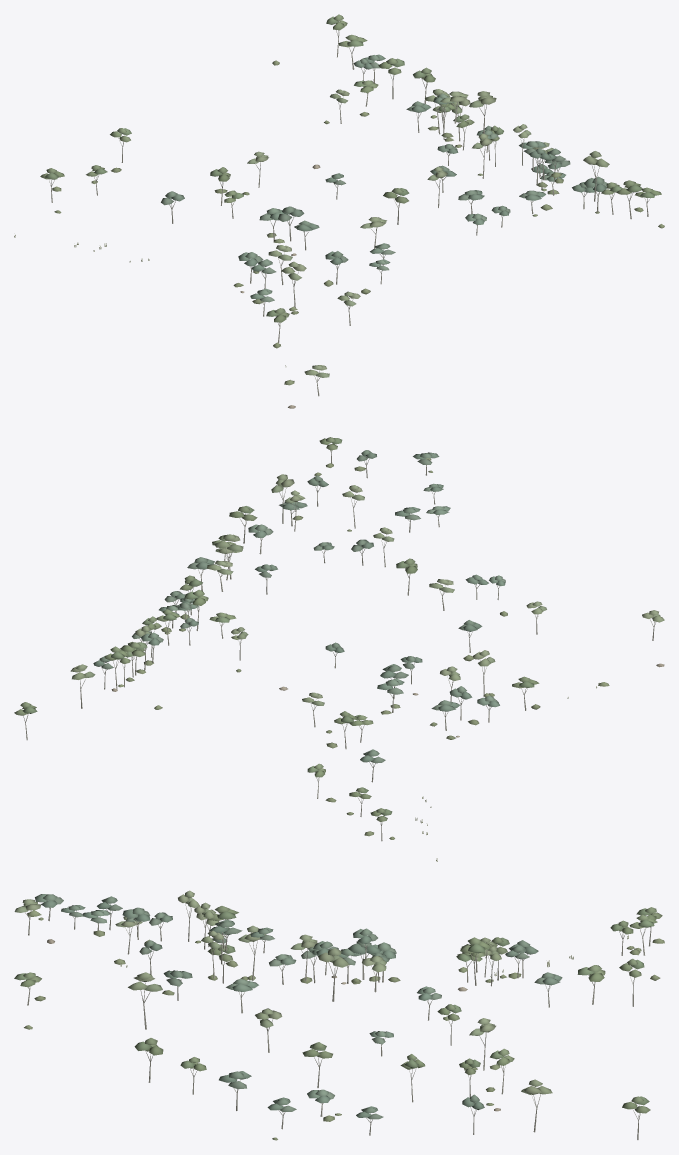
3 renders of one model, top to bottom at view 1: azimuth 30°, elevation 25°; view 2: azimuth 150°, elevation 25°; view 3: azimuth 270°, elevation 25°, orthographic. The views are drawn at different scales.
Visible parts, largest first — view 1: Stage2 Vegetation Sector 08; view 2: Stage2 Vegetation Sector 08; view 3: Stage2 Vegetation Sector 08.
Part boxes in pixels (left/top/right/bottom): Stage2 Vegetation Sector 08: left=14, top=14, right=664, bottom=408; Stage2 Vegetation Sector 08: left=14, top=437, right=664, bottom=861; Stage2 Vegetation Sector 08: left=14, top=890, right=664, bottom=1140.
Bounding box in the file's own units: 152 × 61.49 × 174.
